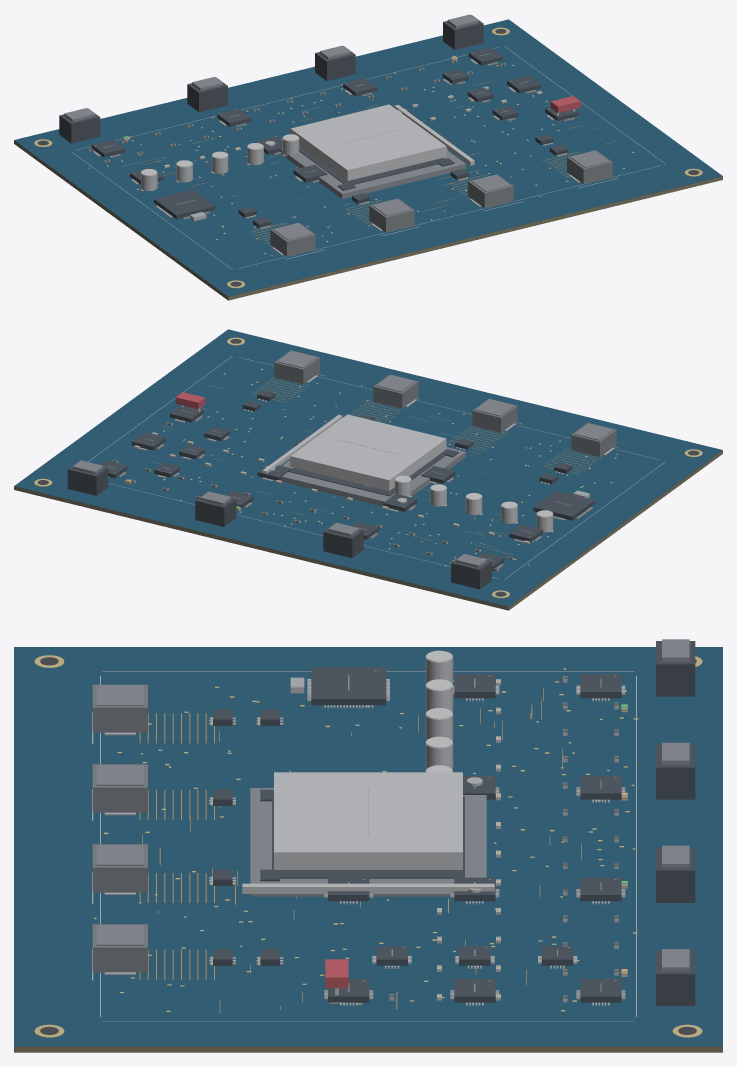
The model's file is L103_CPX11_Assembled_REFERENCE_ONLY.glb.
3 views of the same model, one above another, from view 1: azimuth 30°, elevation 25°; view 2: azimuth 150°, elevation 25°; view 3: azimuth 270°, elevation 25° (orthographic). The views are drawn at different scales.
Parts seen in each view (by area): view 1: PCB_Main_TopSoldermask, CPU_Socket_And_Load_CPU_HeatSpreader, PCB_Main_FR4_Dielectric, CPU_Socket_And_Load_SocketFrame, U1_U1_Mold, J1_ConnectorShell, J4_ConnectorShell, J3_ConnectorShell, J2_ConnectorShell, L3_Ferrite_Core, CPU_Socket_And_Load_SocketInner, L2_Ferrite_Core (+3 smaller); view 2: PCB_Main_TopSoldermask, CPU_Socket_And_Load_CPU_HeatSpreader, PCB_Main_FR4_Dielectric, CPU_Socket_And_Load_SocketFrame, U1_U1_Mold, J3_ConnectorShell, J4_ConnectorShell, J2_ConnectorShell, J1_ConnectorShell, L3_Ferrite_Core, L1_Ferrite_Core, L4_Ferrite_Core (+3 smaller); view 3: PCB_Main_TopSoldermask, CPU_Socket_And_Load_CPU_HeatSpreader, CPU_Socket_And_Load_SocketFrame, PCB_Main_FR4_Dielectric, U1_U1_Mold, CPU_Socket_And_Load_RetentionBar, CPU_Socket_And_Load_SocketInner, L2_Ferrite_Core, L3_Ferrite_Core, L4_Ferrite_Core, L1_Ferrite_Core, J1_ConnectorShell (+20 smaller).
Boxes of the visible parts, x1,y1,x2,y2 form: PCB_Main_TopSoldermask: (14,19,722,296); CPU_Socket_And_Load_CPU_HeatSpreader: (290,104,446,180); PCB_Main_FR4_Dielectric: (14,140,722,300); CPU_Socket_And_Load_SocketFrame: (278,139,465,199); U1_U1_Mold: (154,189,215,219); J1_ConnectorShell: (59,108,100,143); J4_ConnectorShell: (443,15,483,49); J3_ConnectorShell: (315,46,355,80); J2_ConnectorShell: (187,77,227,112); L3_Ferrite_Core: (468,174,513,208); CPU_Socket_And_Load_SocketInner: (299,146,444,184); L2_Ferrite_Core: (369,198,414,232); PCB_Main_TopSoldermask: (14,329,722,606); CPU_Socket_And_Load_CPU_HeatSpreader: (290,414,446,490); PCB_Main_FR4_Dielectric: (14,450,722,610); CPU_Socket_And_Load_SocketFrame: (280,447,465,506); U1_U1_Mold: (533,491,594,520); J3_ConnectorShell: (195,492,236,526); J4_ConnectorShell: (67,461,108,495); J2_ConnectorShell: (323,523,363,558); J1_ConnectorShell: (451,554,491,589); L3_Ferrite_Core: (373,374,418,408); L1_Ferrite_Core: (571,423,616,456); L4_Ferrite_Core: (274,350,319,384); PCB_Main_TopSoldermask: (14,647,722,1046); CPU_Socket_And_Load_CPU_HeatSpreader: (274,772,462,869); CPU_Socket_And_Load_SocketFrame: (250,788,486,896); PCB_Main_FR4_Dielectric: (14,1046,722,1052); U1_U1_Mold: (311,667,386,705); CPU_Socket_And_Load_RetentionBar: (242,883,494,893); CPU_Socket_And_Load_SocketInner: (272,796,464,878); L2_Ferrite_Core: (92,764,147,812); L3_Ferrite_Core: (92,844,147,892); L4_Ferrite_Core: (92,924,147,972); L1_Ferrite_Core: (92,684,147,732); J1_ConnectorShell: (656,641,695,696).
Bounding box in the file's own units: 0.24 × 0.013 × 0.18.
